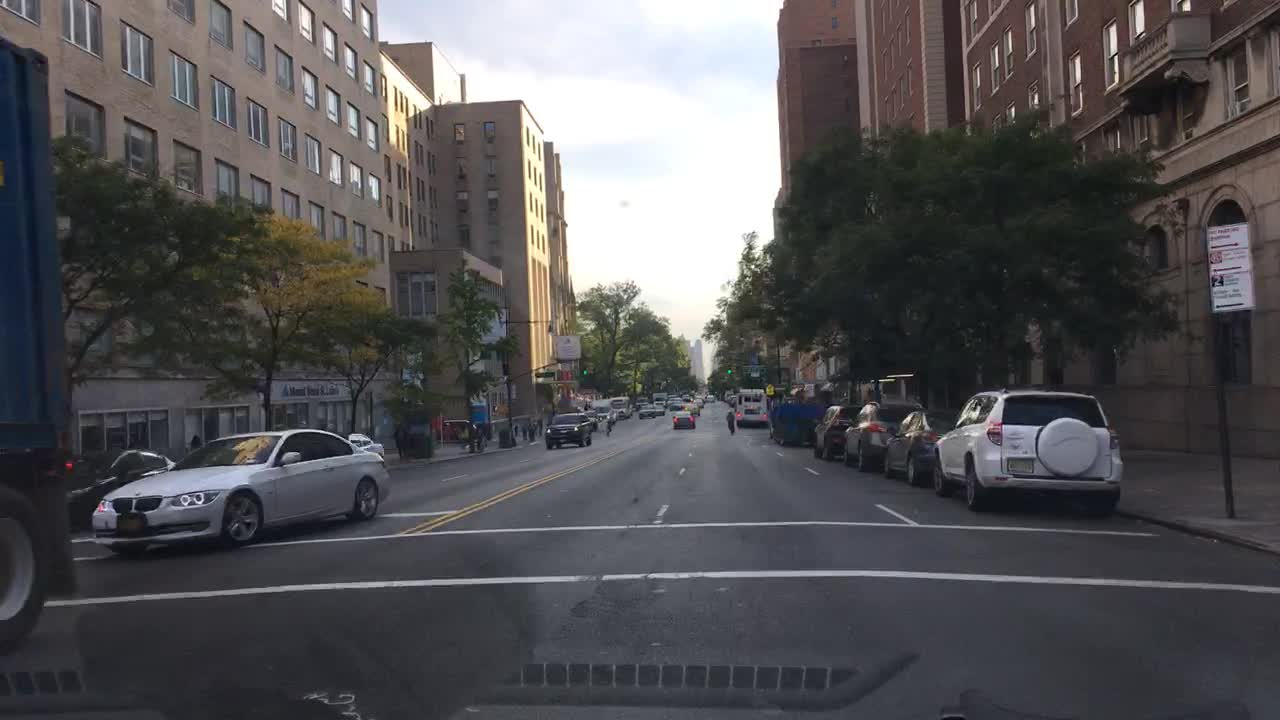car: (94, 431, 391, 555), (928, 389, 1118, 511), (66, 448, 177, 525), (841, 401, 927, 470), (885, 407, 957, 489), (766, 393, 828, 448), (810, 405, 866, 461), (542, 412, 594, 447), (735, 389, 768, 429), (444, 417, 488, 447), (344, 431, 387, 456), (609, 393, 633, 423), (590, 404, 617, 426), (670, 409, 695, 428), (638, 401, 655, 419), (650, 400, 665, 414), (634, 396, 649, 408), (669, 400, 680, 410), (722, 391, 733, 401), (652, 393, 667, 400), (693, 399, 706, 407), (726, 395, 738, 403), (662, 399, 671, 408), (681, 396, 692, 403), (706, 393, 715, 401), (669, 391, 677, 399), (695, 391, 704, 398), (647, 398, 653, 408), (686, 388, 693, 396), (678, 389, 685, 397)
person: (722, 408, 736, 433), (603, 418, 613, 440), (532, 420, 539, 442), (529, 418, 535, 442), (519, 423, 525, 441), (513, 424, 517, 439)
traffic light: (725, 366, 732, 377), (586, 367, 592, 378), (582, 367, 586, 378)
traffic sign: (1205, 222, 1257, 310), (553, 339, 582, 360), (1028, 316, 1040, 353), (749, 350, 758, 363), (500, 367, 512, 375), (750, 367, 759, 377), (766, 384, 774, 392), (544, 372, 555, 376)
truck: (1, 31, 69, 649)
